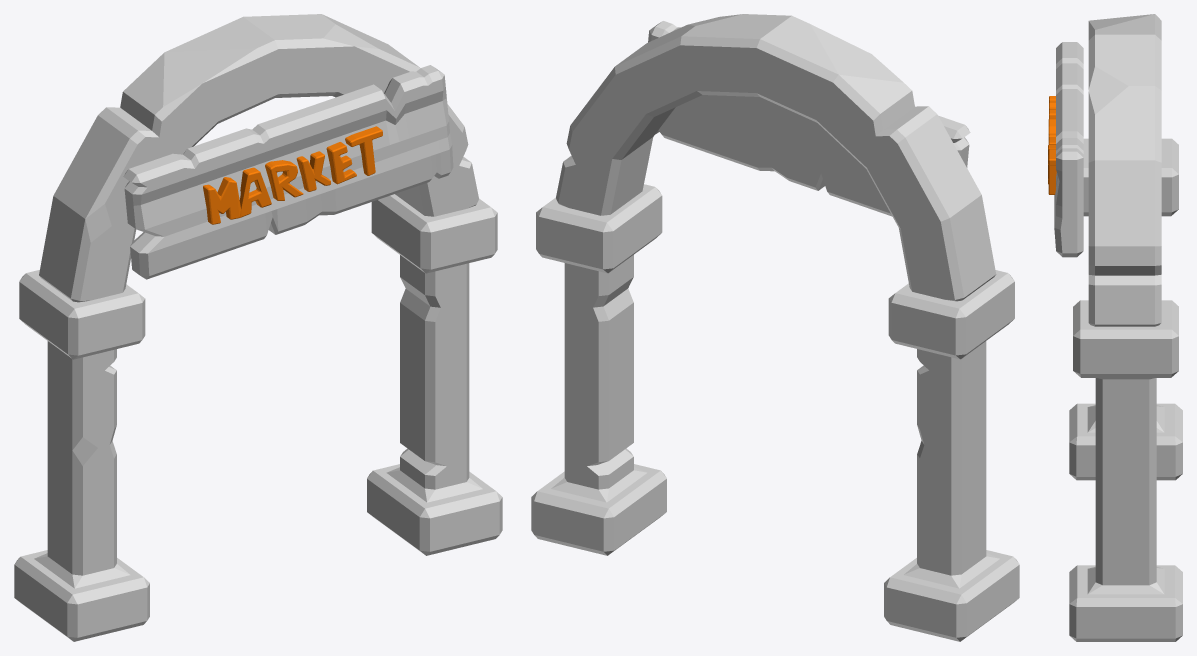
File: MarketEntrance.fbx
3 views of the same model, side by side, from view 1: azimuth 30°, elevation 25°; view 2: azimuth 150°, elevation 25°; view 3: azimuth 270°, elevation 25° (orthographic). The views are drawn at different scales.
Visible parts, largest first — view 1: Cube.006, Cylinder, Cube.007, Cube.008; view 2: Cube.006, Cylinder, Cube.007; view 3: Cube.006, Cylinder, Cube.007, Cube.008.
Boxes of the visible parts, left/top/right/bottom form: Cube.006: left=14, top=194, right=502, bottom=641; Cylinder: left=39, top=14, right=478, bottom=302; Cube.007: left=123, top=65, right=453, bottom=279; Cube.008: left=203, top=126, right=382, bottom=224; Cube.006: left=531, top=184, right=1019, bottom=641; Cylinder: left=556, top=14, right=996, bottom=301; Cube.007: left=648, top=21, right=970, bottom=216; Cube.006: left=1069, top=138, right=1182, bottom=641; Cylinder: left=1088, top=14, right=1161, bottom=326; Cube.007: left=1054, top=42, right=1083, bottom=257; Cube.008: left=1048, top=96, right=1056, bottom=194.
Bounding box in the file's own units: 448 × 534 × 128.
